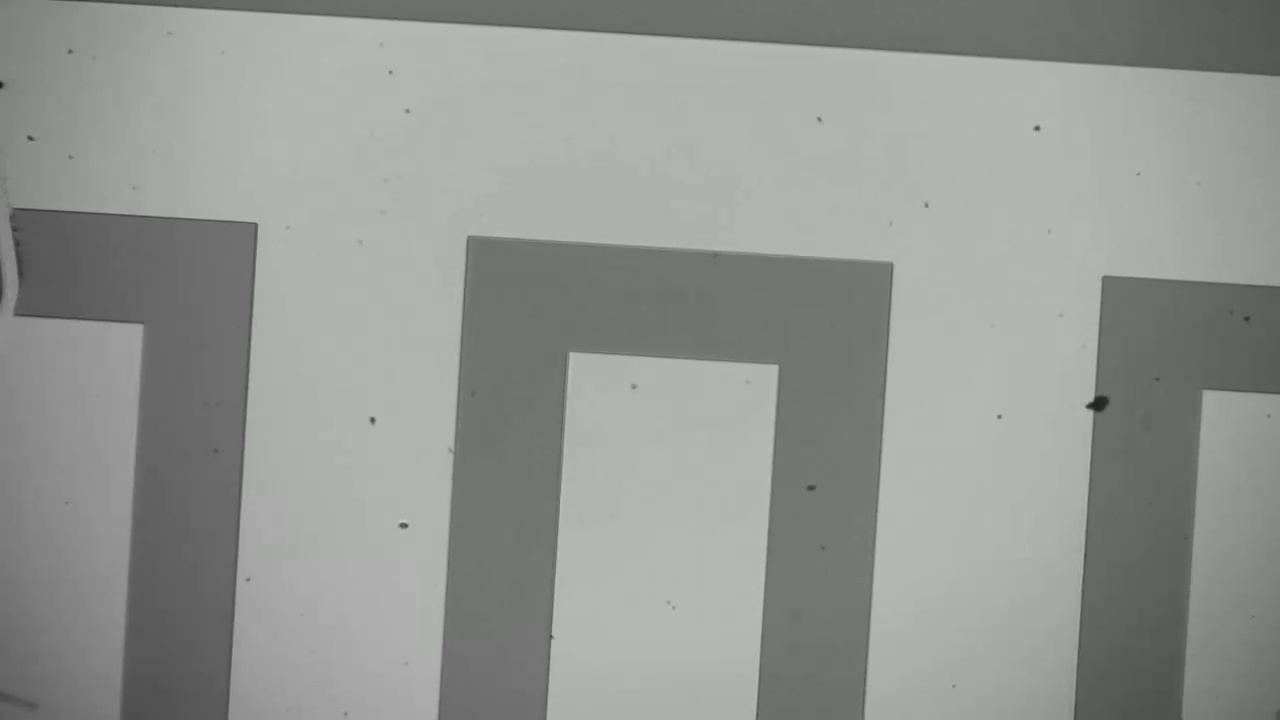Short_circuit: (1, 172, 41, 339)
